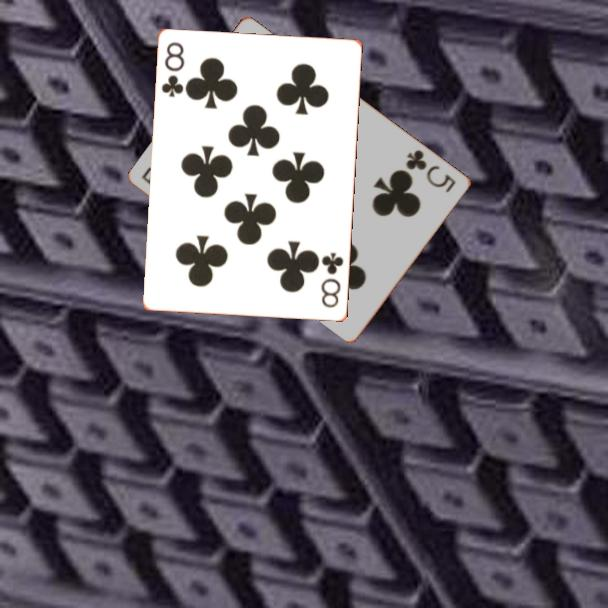c05: (402, 146, 459, 196)
c08: (158, 39, 188, 100), (318, 249, 347, 311)
